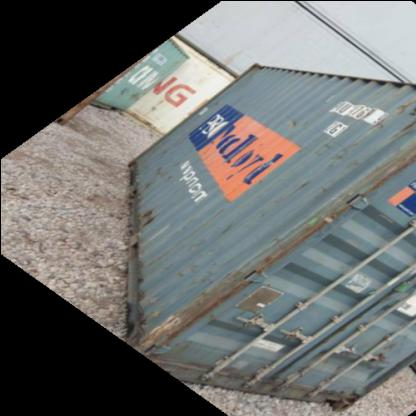Damage: (167, 254, 223, 294), (133, 150, 186, 190), (310, 136, 360, 164), (136, 198, 167, 229), (390, 93, 415, 116), (280, 110, 306, 129), (294, 172, 320, 190), (214, 219, 235, 238), (366, 116, 388, 130)
